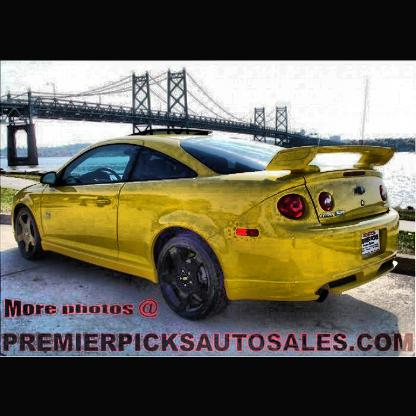Chevrolet Cobalt SS 2010: (13, 127, 408, 330)
